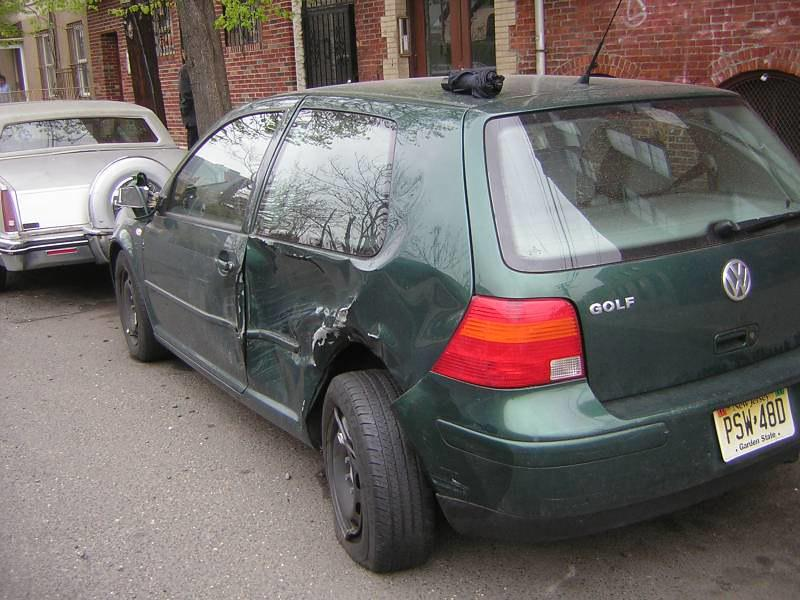doorouter-dent: (256, 240, 378, 400), (145, 210, 251, 358)
